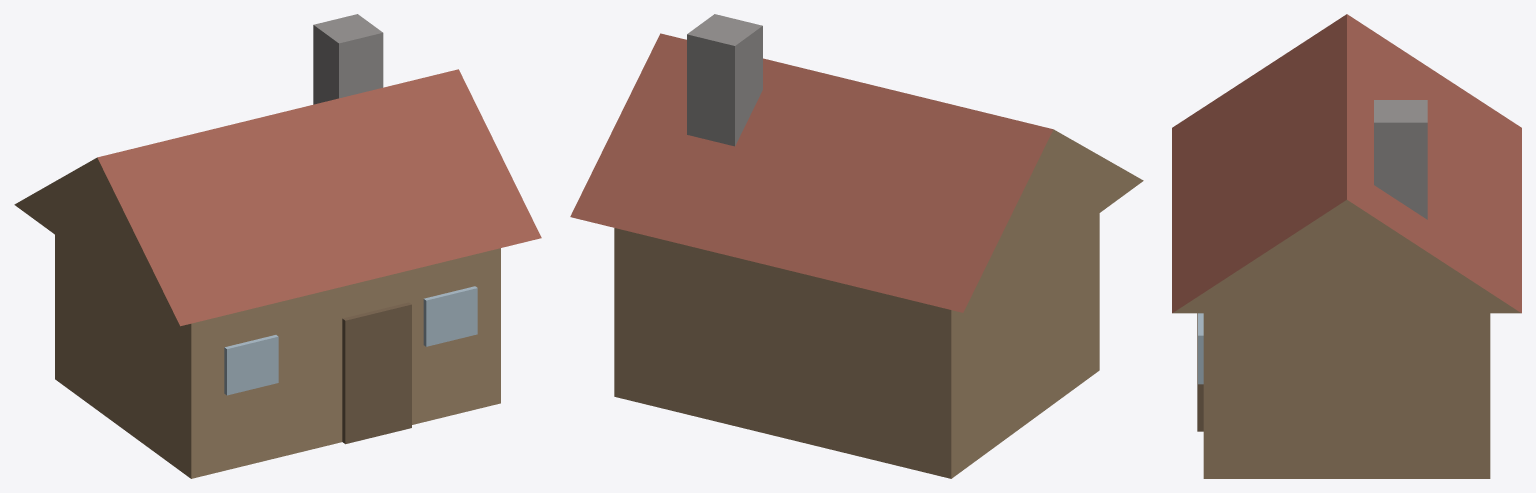
Rendered from cabin.gltf.
The picture shows the model from 3 angles, left to right: view 1: azimuth 30°, elevation 25°; view 2: azimuth 150°, elevation 25°; view 3: azimuth 270°, elevation 25°; orthographic projection. The views are drawn at different scales.
Parts seen in each view (by area): view 1: cabin; view 2: cabin; view 3: cabin.
Part boxes in pixels (x1=…): cabin: x1=14, y1=14, x2=541, y2=478; cabin: x1=570, y1=14, x2=1143, y2=478; cabin: x1=1172, y1=14, x2=1521, y2=478.
Size of the model in its own units: 4.9 by 4.15 by 3.9.
